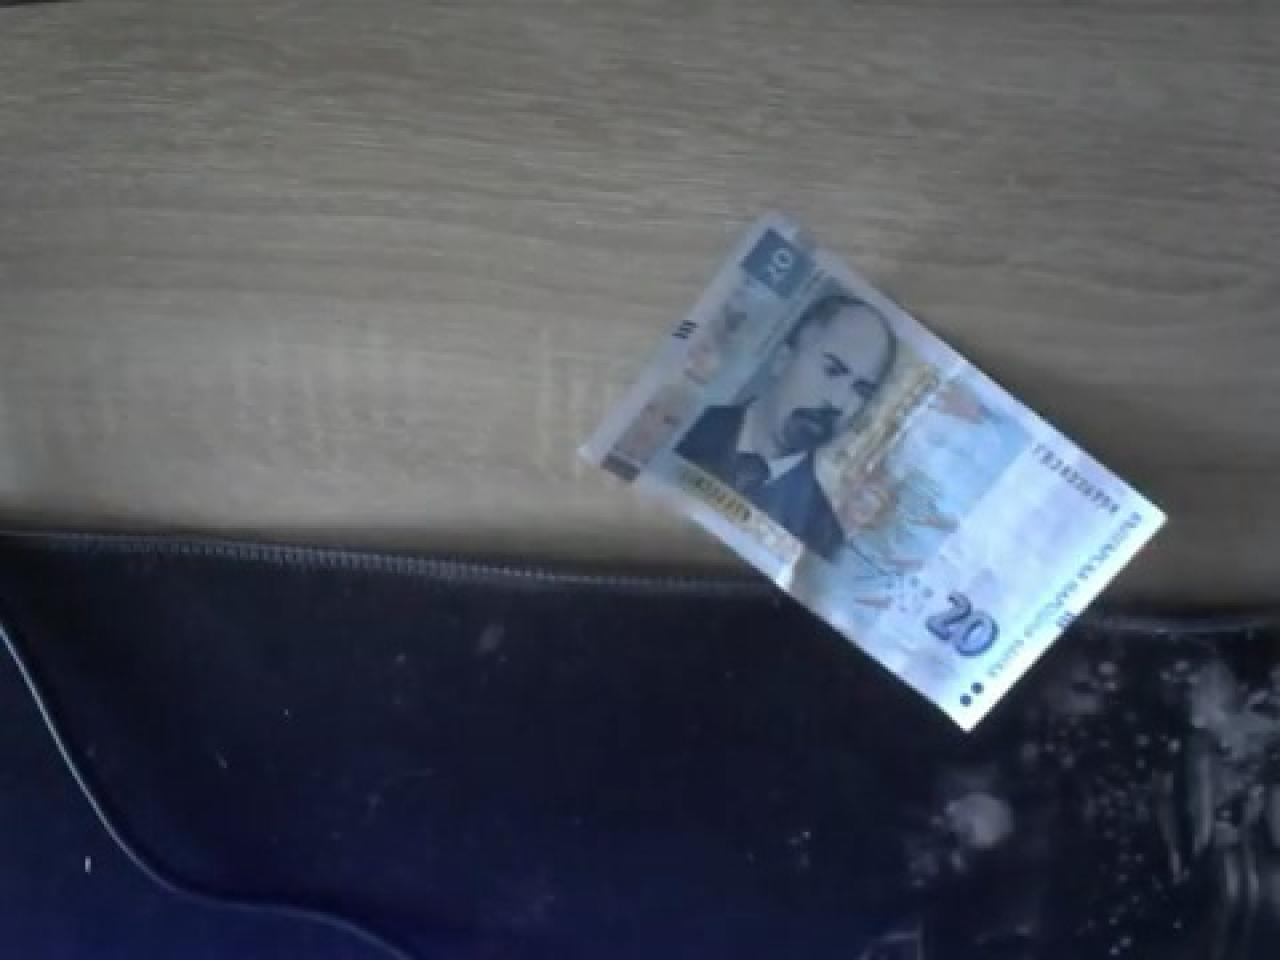20leva: (577, 211, 1171, 736)
